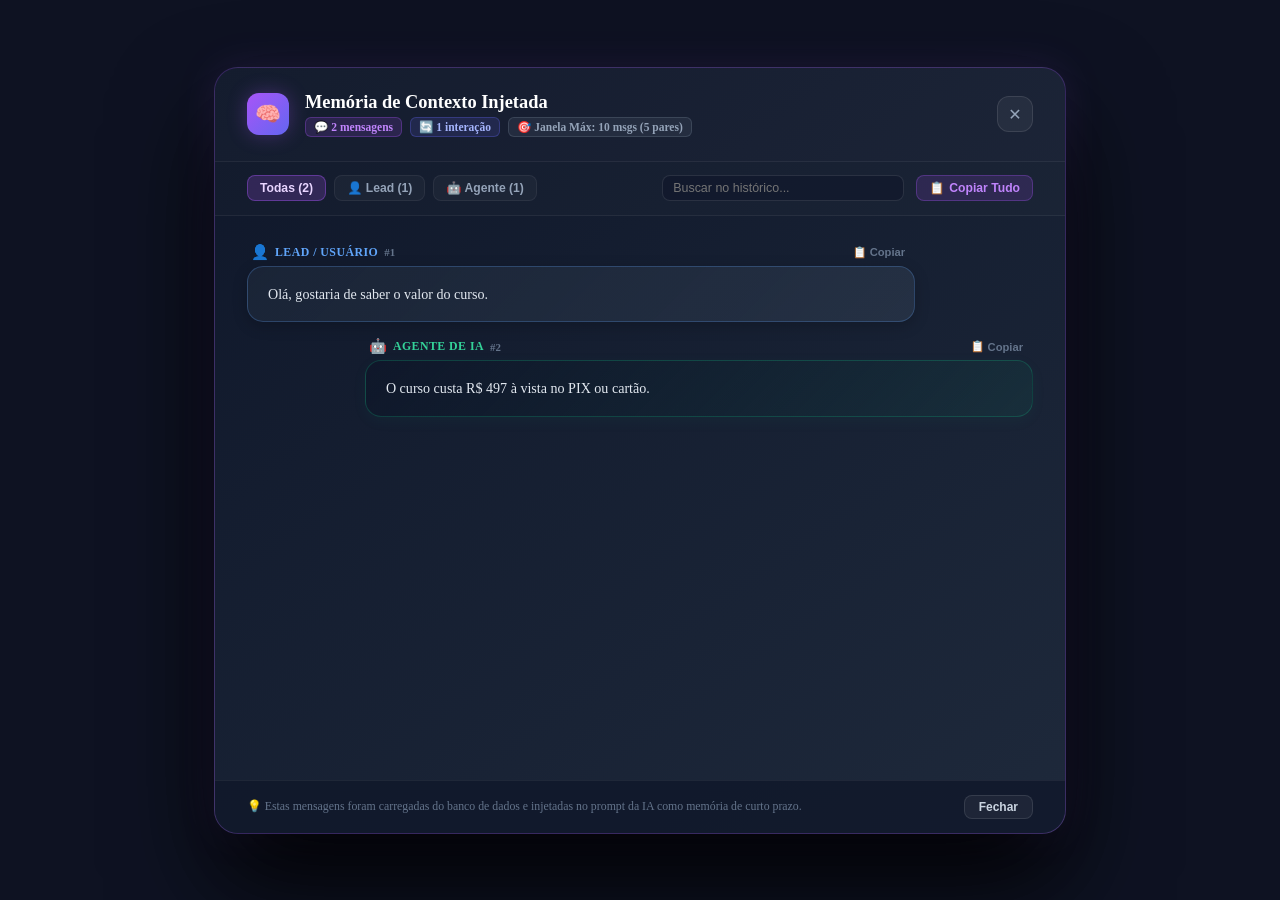
Test case: ContextMemoryViewerModal › deve filtrar mensagens via campo de busca
This screenshot has width=1280, height=900.
Type "PIX" into the field with placeholder "Buscar no histórico..." at (783, 188), box x1=662 y1=175 x2=904 y2=201
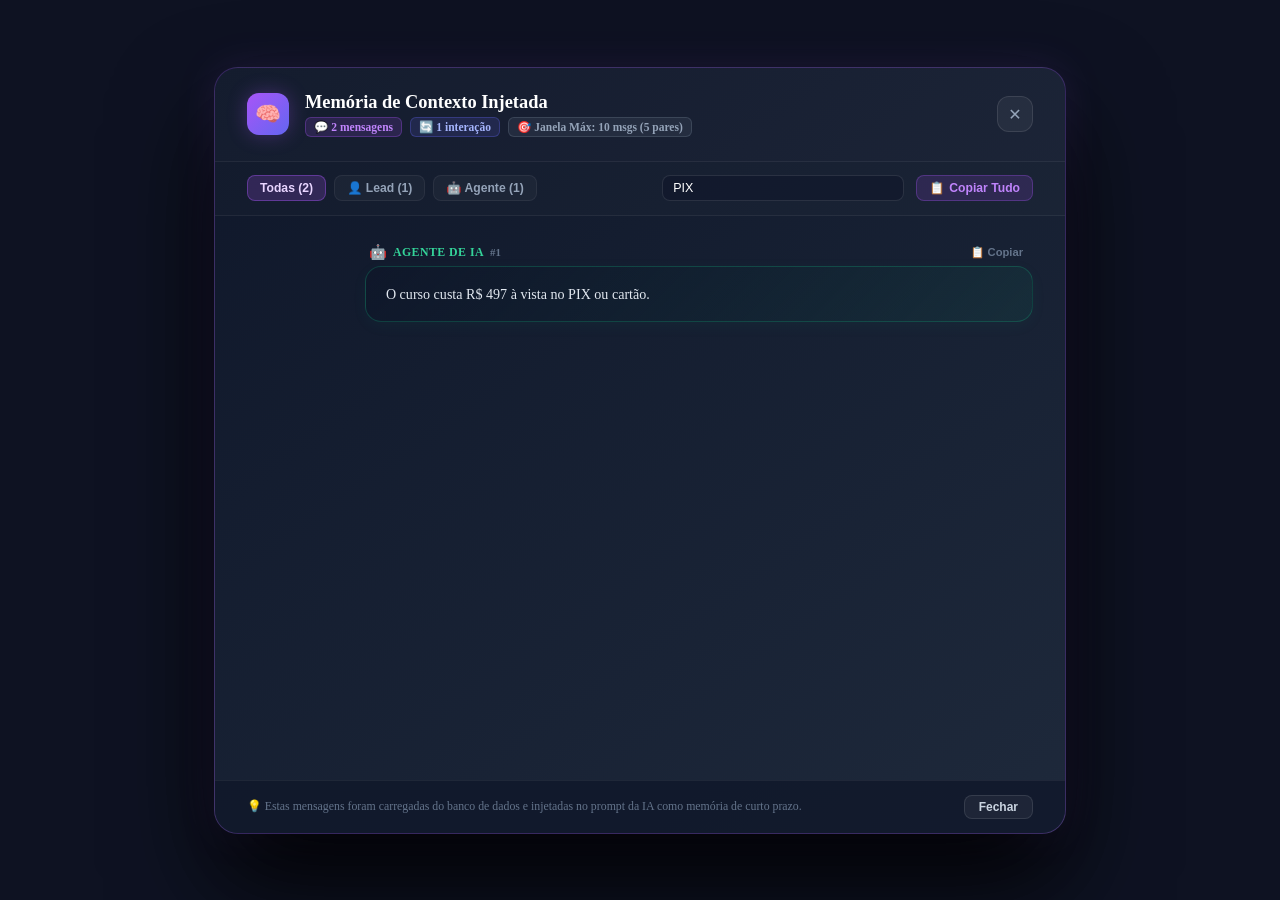
Expected: the text "Olá, gostaria de saber o valor do curso." is gone
Expected: the text "O curso custa R$ 497 à vista no PIX ou cartão." is shown, x1=365 y1=266 x2=1033 y2=322
